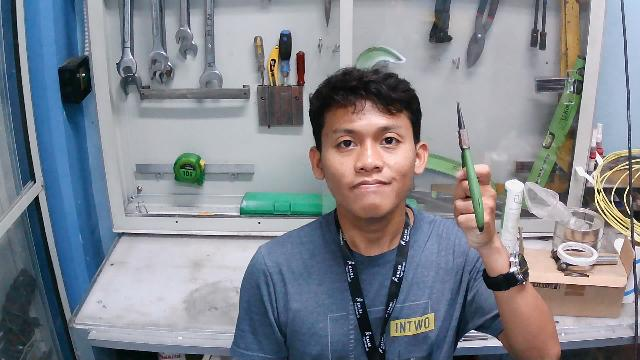tang_cucut_lancip_2: (445, 91, 501, 243)
